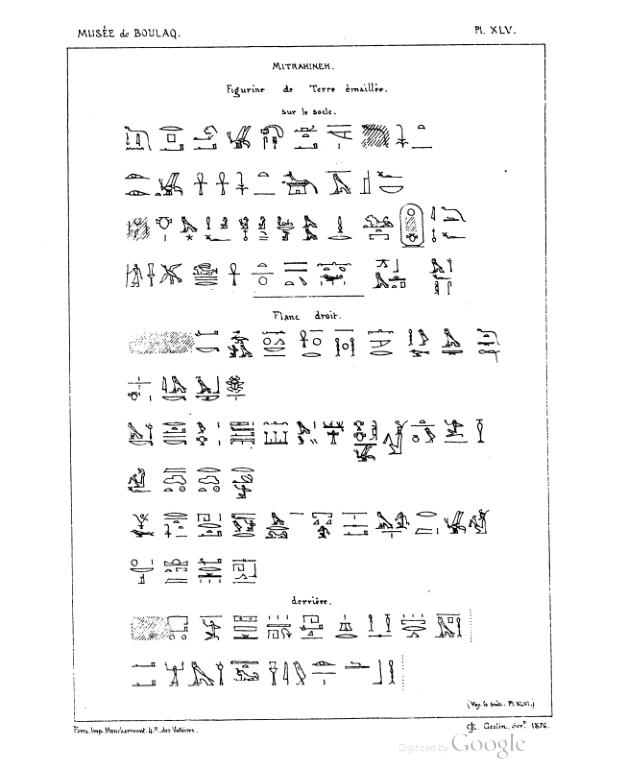circle: (395, 201, 426, 253)
